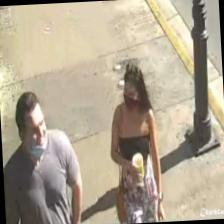person: (0, 89, 83, 224), (105, 61, 165, 224)
